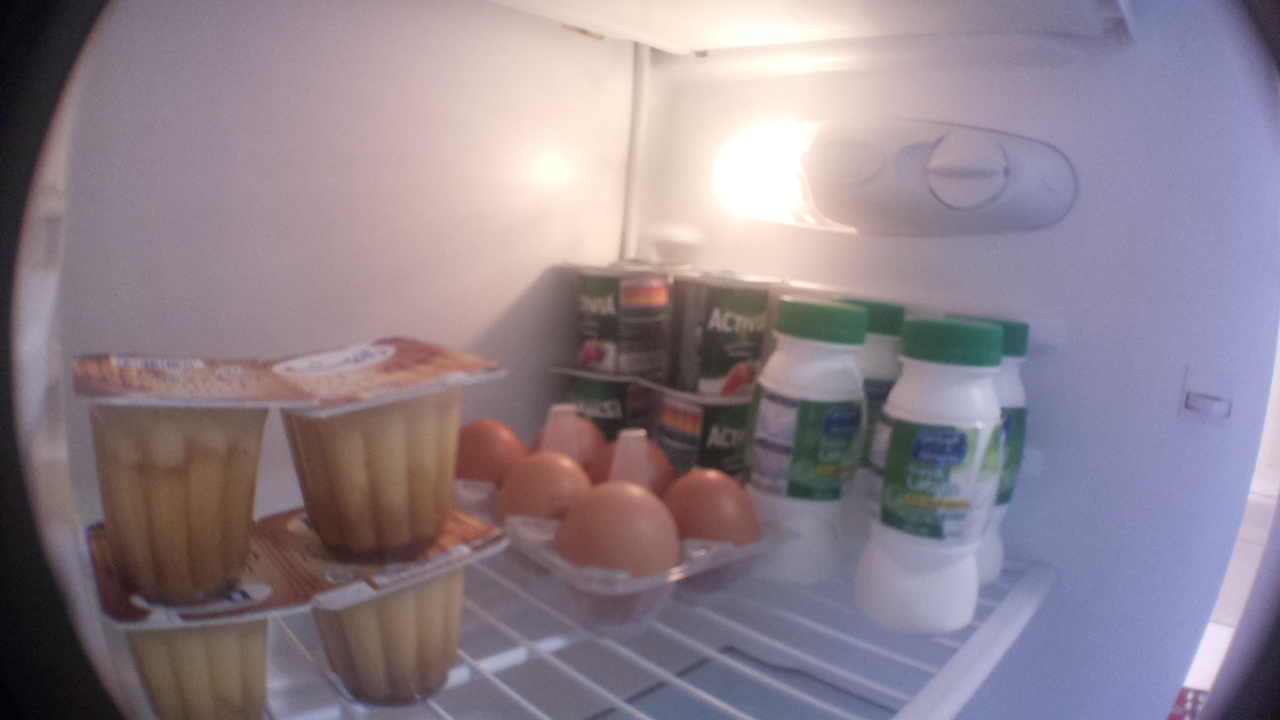caramel: (287, 324, 505, 564), (66, 345, 277, 592), (301, 512, 505, 714), (69, 590, 301, 720)
egg: (555, 465, 682, 573), (663, 459, 765, 548), (503, 449, 590, 517), (453, 406, 530, 481), (592, 425, 684, 485), (536, 410, 601, 462)
laban: (847, 318, 1003, 634), (750, 294, 864, 582), (989, 319, 1046, 598), (860, 289, 907, 382)
yoghurt: (664, 267, 772, 401), (564, 253, 670, 378), (645, 395, 769, 470), (540, 377, 659, 426)
